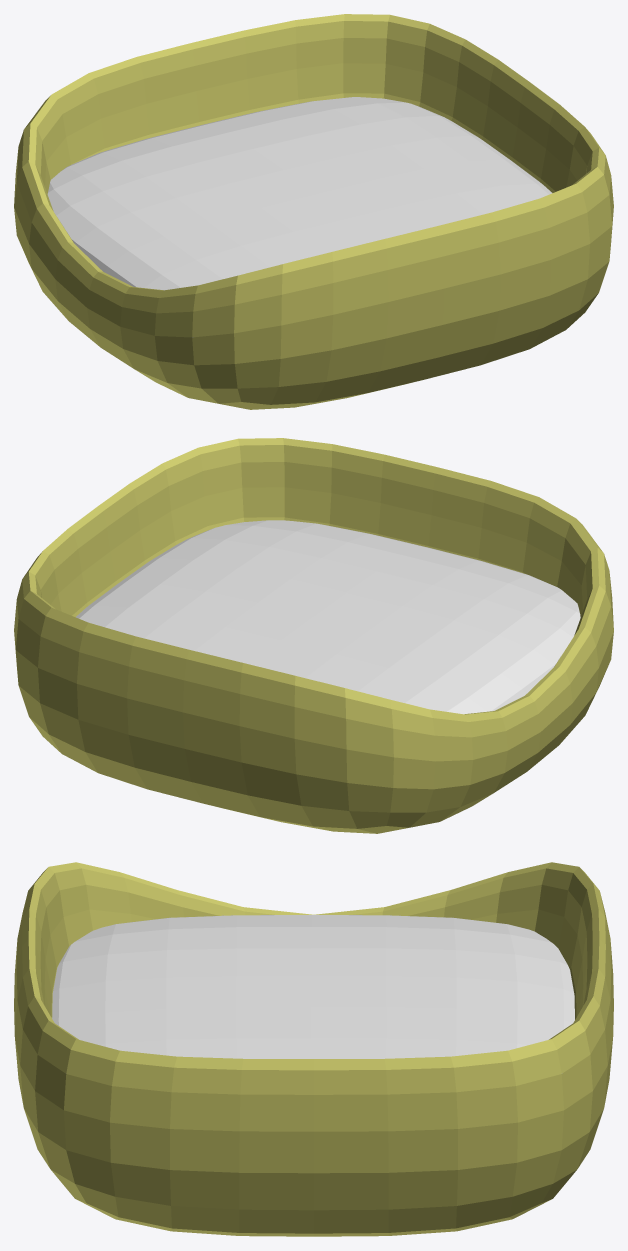
The model's file is LitterBox.fbx.
3 renders of one model, top to bottom at view 1: azimuth 30°, elevation 25°; view 2: azimuth 150°, elevation 25°; view 3: azimuth 270°, elevation 25°, orthographic. The views are drawn at different scales.
Visible parts, largest first — view 1: LitterBox, Litter; view 2: LitterBox, Litter; view 3: LitterBox, Litter.
Boxes of the visible parts, left/top/right/bottom form: LitterBox: left=14, top=14, right=613, bottom=409; Litter: left=47, top=97, right=552, bottom=290; LitterBox: left=14, top=438, right=613, bottom=833; Litter: left=76, top=520, right=580, bottom=714; LitterBox: left=14, top=862, right=613, bottom=1236; Litter: left=52, top=915, right=574, bottom=1058.
Bounding box in the file's own units: 82.27 × 34.44 × 82.27.
2 materials, 1 textured.
